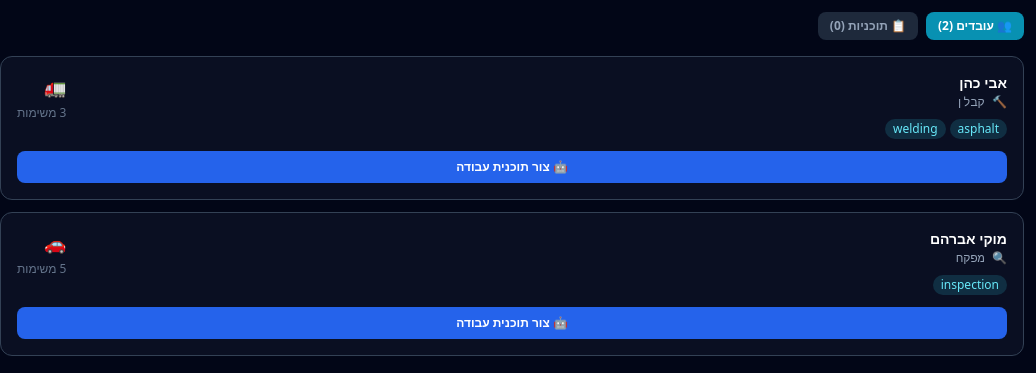
Test case: DailyPlansPanel › shows empty state when no plans
Check: the text "אבי כהן" is shown, box [959, 73, 1007, 92]
# Switch to plans tab
Click the button "📋 תוכניות (0)": [868, 26] box [818, 12, 918, 40]
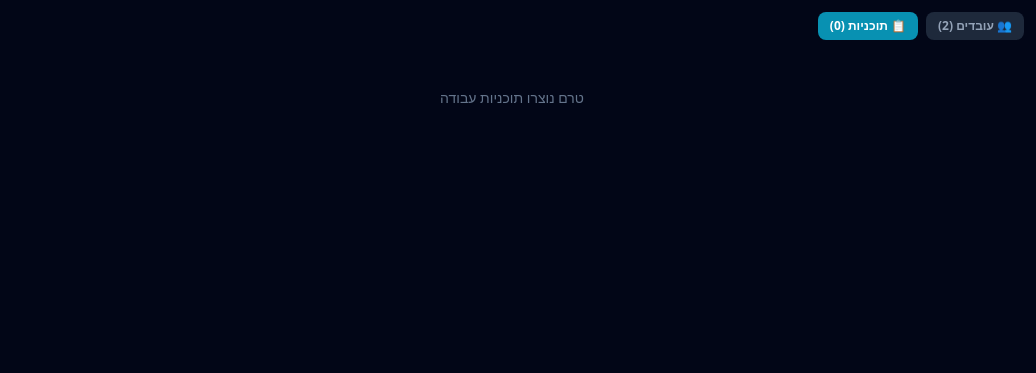
Check: the text "טרם נוצרו תוכניות עבודה" is shown, box [440, 88, 584, 107]
